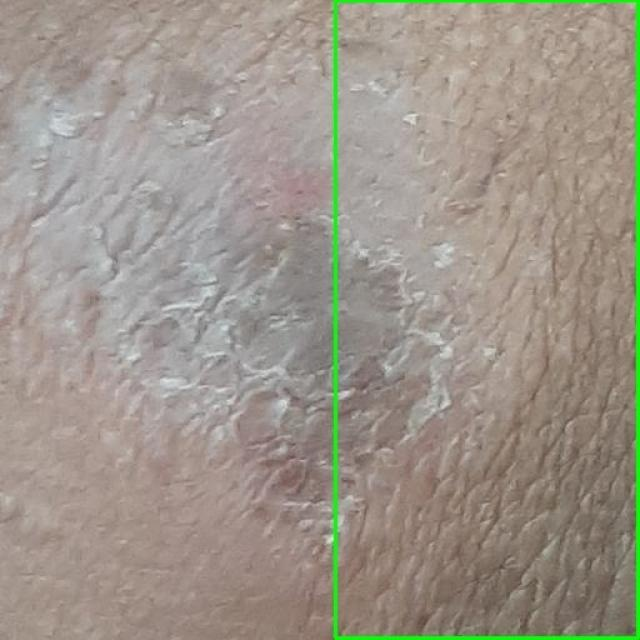Eczema: (336, 0, 639, 639)
